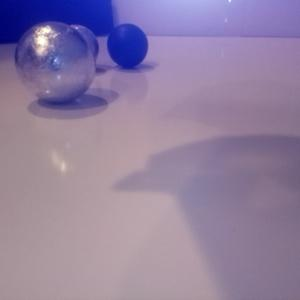alive_ball: (15, 21, 95, 104), (53, 24, 99, 70)
dead_ball: (106, 23, 149, 69)
